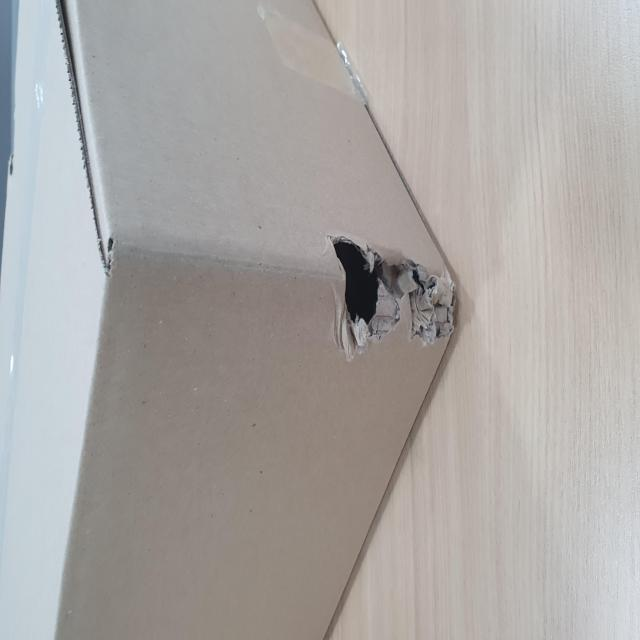damaged: (154, 560, 242, 640)
